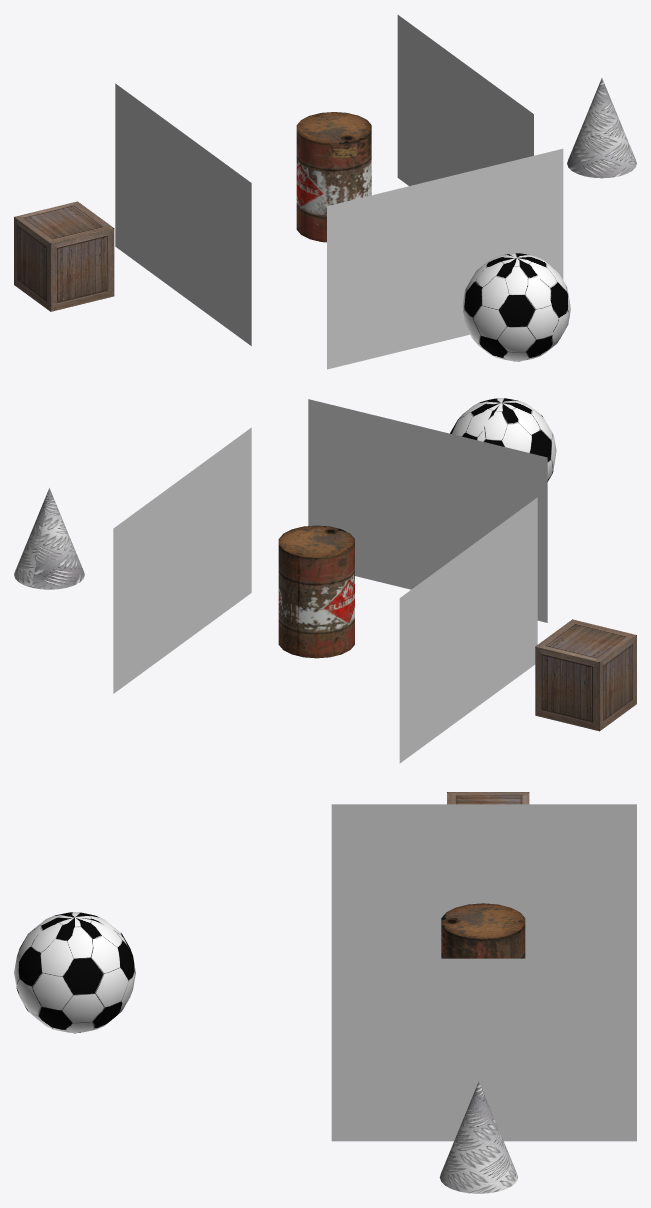
File: fbxScene.DAE
3 views of the same model, one above another, from view 1: azimuth 30°, elevation 25°; view 2: azimuth 150°, elevation 25°; view 3: azimuth 270°, elevation 25° (orthographic). The views are drawn at different scales.
Visible parts, largest first — view 1: BSP_Plane1, BSP_Plane2, BSP_Plane3, Sphere001, Box001, Cylinder001, Cone001; view 2: BSP_Plane1, BSP_Plane3, BSP_Plane2, Cylinder001, Box001, Sphere001, Cone001; view 3: BSP_Plane3, BSP_Plane2, Sphere001, Cone001, Cylinder001, Box001.
Boxes of the visible parts, left/top/right/bottom form: BSP_Plane1: left=327, top=148, right=563, bottom=369; BSP_Plane2: left=115, top=83, right=251, bottom=345; BSP_Plane3: left=397, top=15, right=533, bottom=185; Sphere001: left=462, top=253, right=570, bottom=361; Box001: left=14, top=201, right=114, bottom=311; Cylinder001: left=296, top=112, right=371, bottom=242; Cone001: left=567, top=78, right=636, bottom=178; BSP_Plane1: left=308, top=399, right=547, bottom=622; BSP_Plane3: left=113, top=427, right=251, bottom=693; BSP_Plane2: left=399, top=497, right=537, bottom=763; Cylinder001: left=278, top=525, right=354, bottom=658; Box001: left=535, top=619, right=636, bottom=731; Sphere001: left=450, top=398, right=556, bottom=481; Cone001: left=14, top=488, right=84, bottom=589; BSP_Plane3: left=331, top=958, right=636, bottom=1141; BSP_Plane2: left=331, top=804, right=636, bottom=958; Sphere001: left=14, top=912, right=135, bottom=1033; Cone001: left=439, top=1081, right=517, bottom=1193; Cylinder001: left=441, top=903, right=525, bottom=958; Box001: left=447, top=792, right=529, bottom=804.
Bounding box in the file's own units: 587 × 154 × 475.
